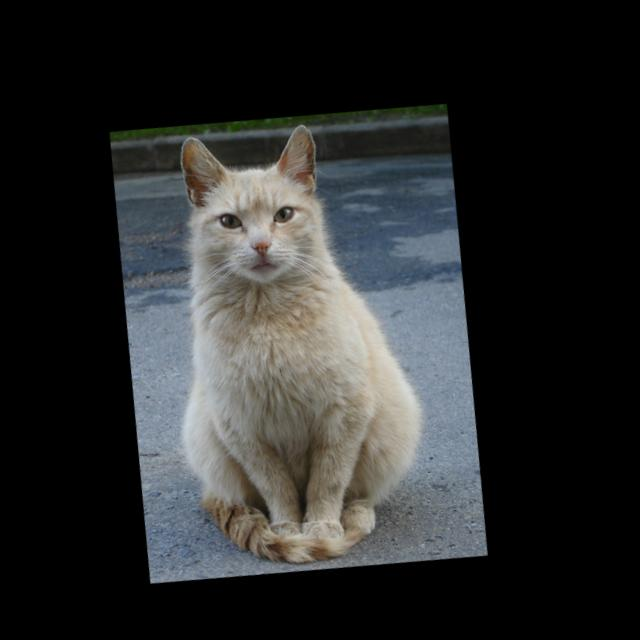animals: (135, 97, 461, 580)
